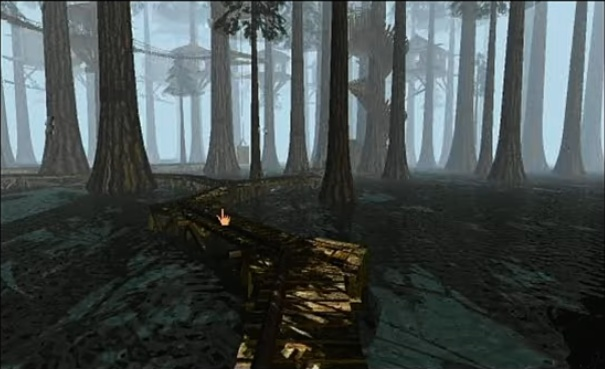Pointer: (213, 205, 235, 228)
